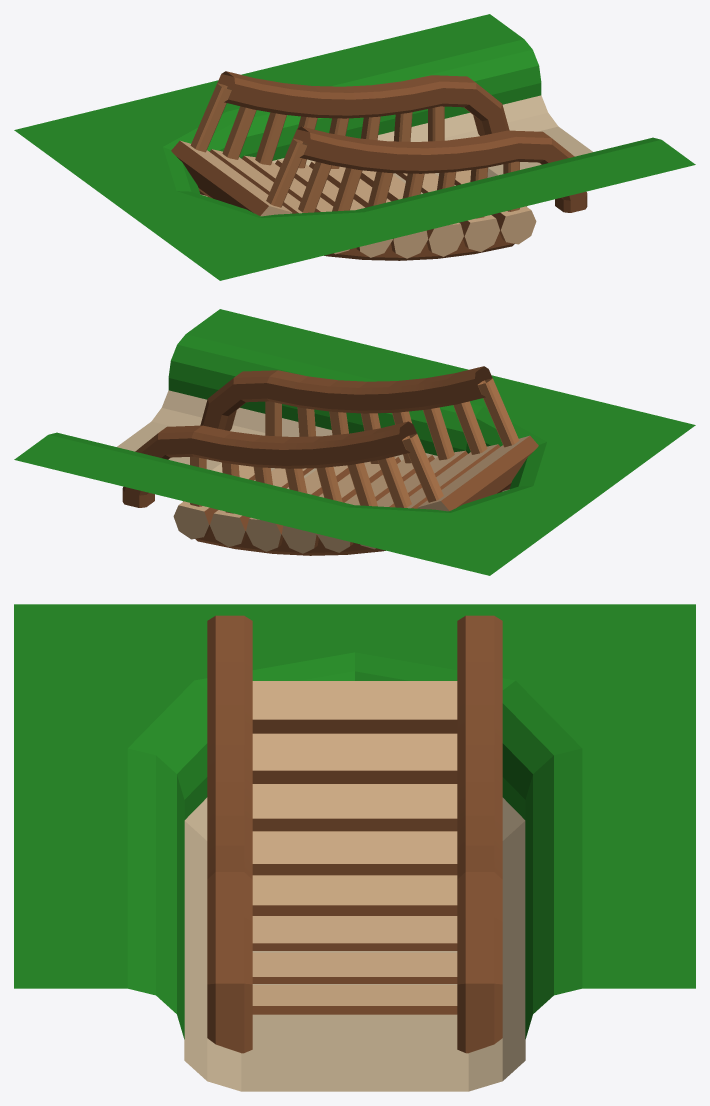
Rendered from Track_Bridge_Start_Flat_to_Gentle.obj.
3 renders of one model, top to bottom at view 1: azimuth 30°, elevation 25°; view 2: azimuth 150°, elevation 25°; view 3: azimuth 270°, elevation 25°, orthographic. The views are drawn at different scales.
Parts seen in each view (by area): view 1: Grass, Bridge_Rail, Bridge_Rail_Support, Log_Plank_Top, Log_Plank_Bark, Log_Plank_End, Dirt, Bridge_Support_Beam; view 2: Grass, Bridge_Rail, Bridge_Rail_Support, Log_Plank_Top, Log_Plank_Bark, Log_Plank_End, Dirt, Bridge_Support_Beam; view 3: Grass, Log_Plank_Top, Bridge_Rail, Dirt, Log_Plank_Bark.
Boxes of the visible parts, box(x1,y1,x2,y2) form: Grass: box(14, 14, 695, 280); Bridge_Rail: box(217, 71, 587, 212); Bridge_Rail_Support: box(190, 83, 519, 218); Log_Plank_Top: box(180, 140, 530, 224); Log_Plank_Bark: box(171, 141, 505, 252); Log_Plank_End: box(260, 206, 536, 258); Dirt: box(200, 95, 592, 206); Bridge_Support_Beam: box(199, 191, 514, 260); Grass: box(14, 309, 695, 575); Bridge_Rail: box(122, 366, 492, 507); Bridge_Rail_Support: box(190, 378, 519, 513); Log_Plank_Top: box(179, 435, 529, 519); Log_Plank_Bark: box(204, 436, 538, 547); Log_Plank_End: box(173, 501, 449, 553); Dirt: box(117, 390, 509, 501); Bridge_Support_Beam: box(195, 486, 510, 555); Grass: box(14, 604, 695, 1039); Log_Plank_Top: box(252, 681, 457, 1005); Bridge_Rail: box(207, 615, 502, 1053); Dirt: box(184, 797, 525, 1091); Log_Plank_Bark: box(252, 719, 457, 1014).
Size of the model in its own units: 4 by 1.34 by 3.
